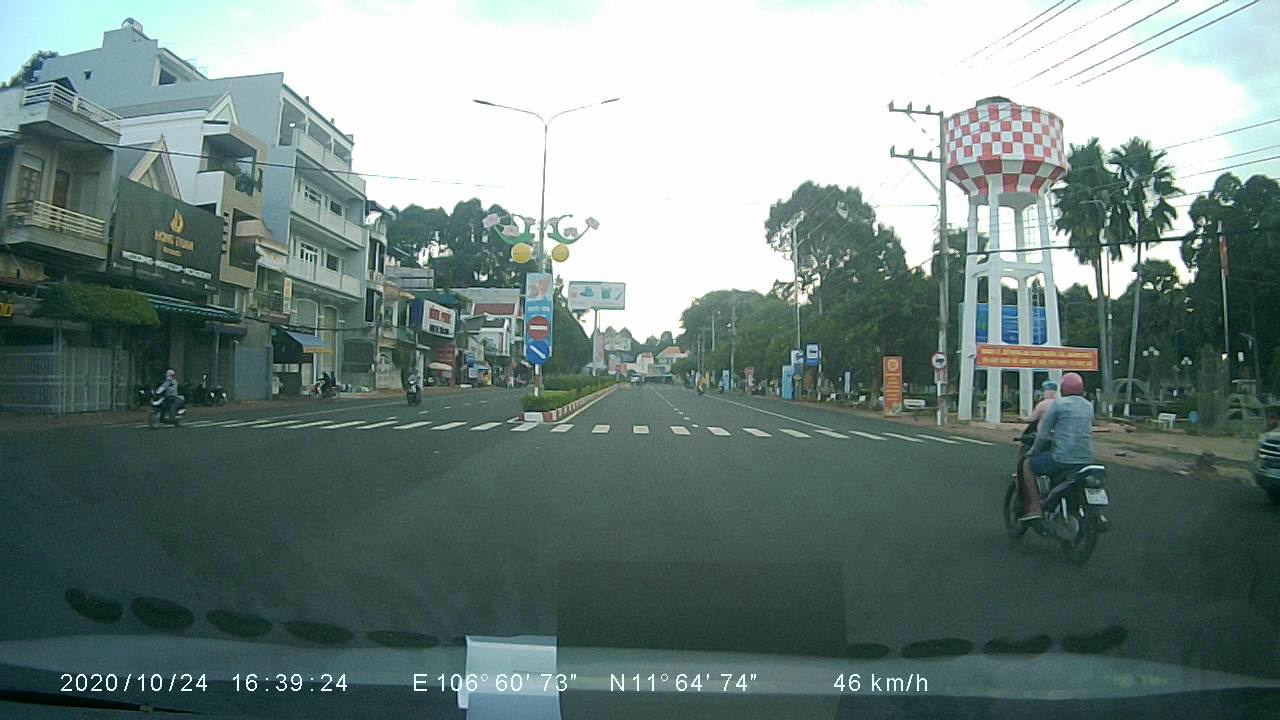Cam di nguoc chieu: (527, 314, 554, 338)
Huong di phai re phai: (524, 339, 554, 364)
